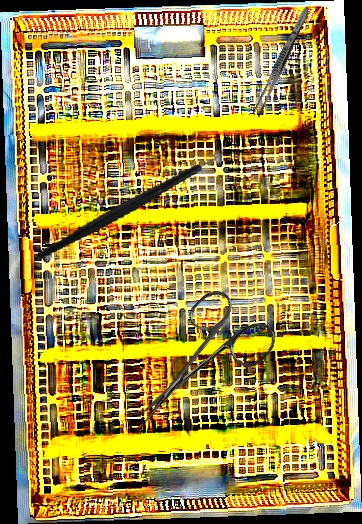Chopper: (22, 136, 243, 263)
Dressing Forceps: (251, 5, 312, 119)
Iris Scissors: (111, 279, 282, 452)
